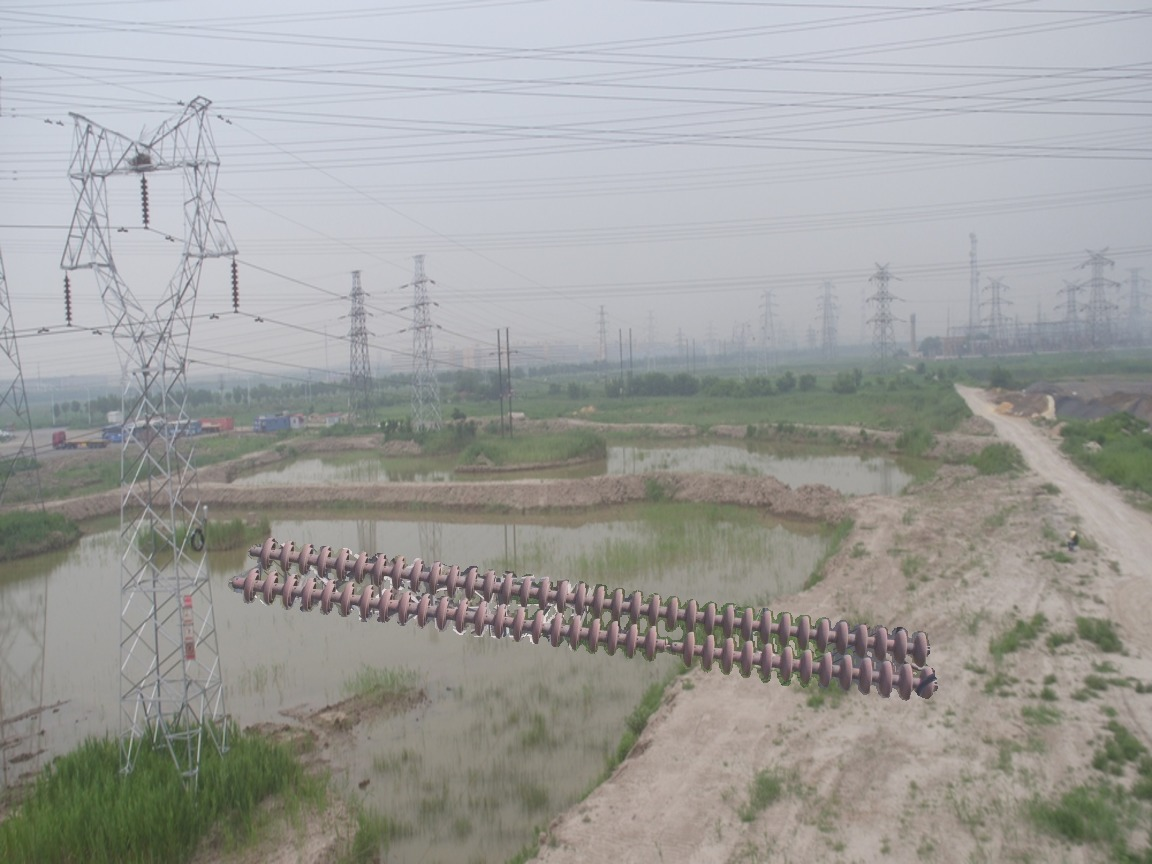defect: (637, 623, 701, 670)
